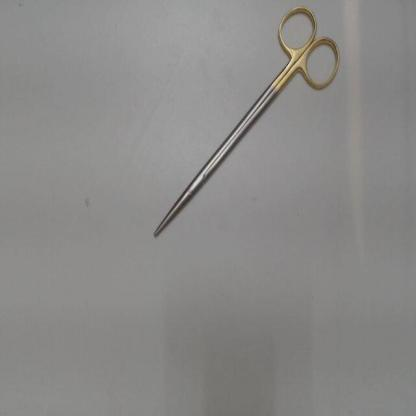7 Metzenbaum Scissors: (151, 3, 344, 241)
